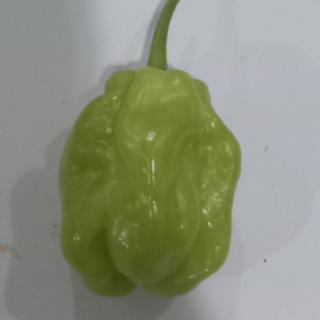Grade-A: (52, 59, 252, 299)
